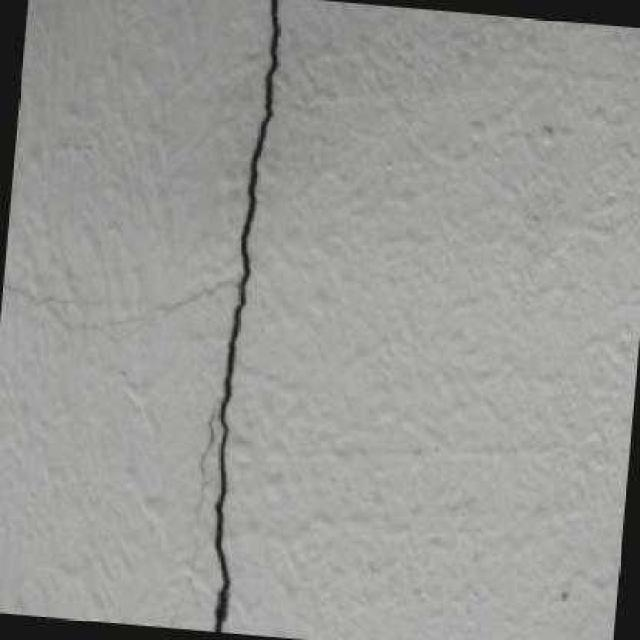D00: (212, 0, 278, 633)
